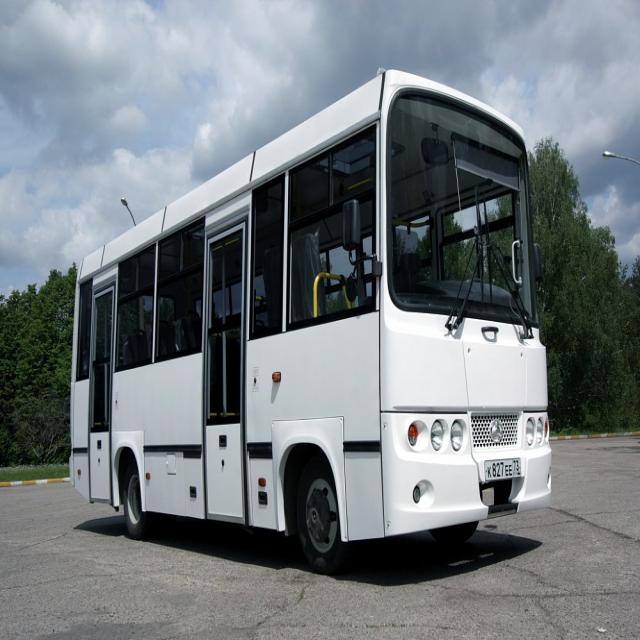bus: (66, 61, 557, 563)
